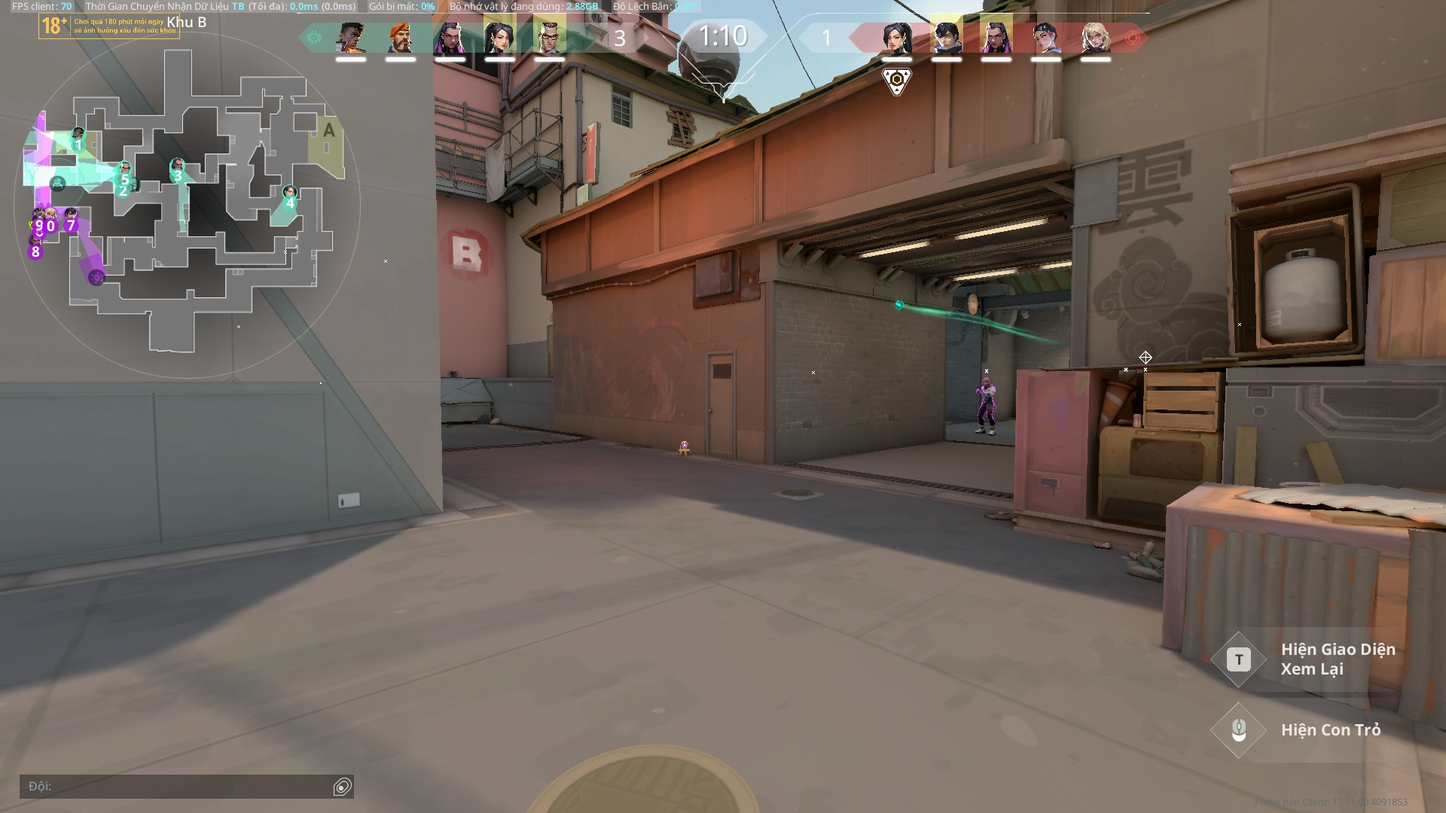body: (976, 384, 996, 403)
head: (982, 376, 990, 387)
